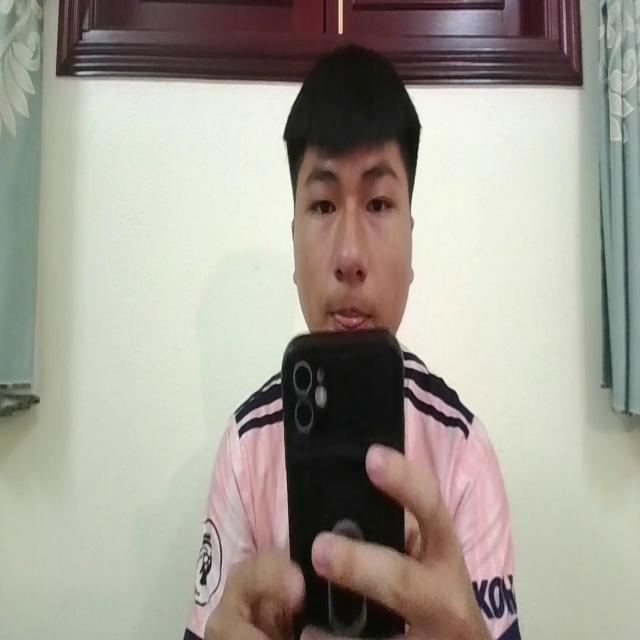phone: (280, 316, 408, 640)
student: (180, 41, 520, 640)
